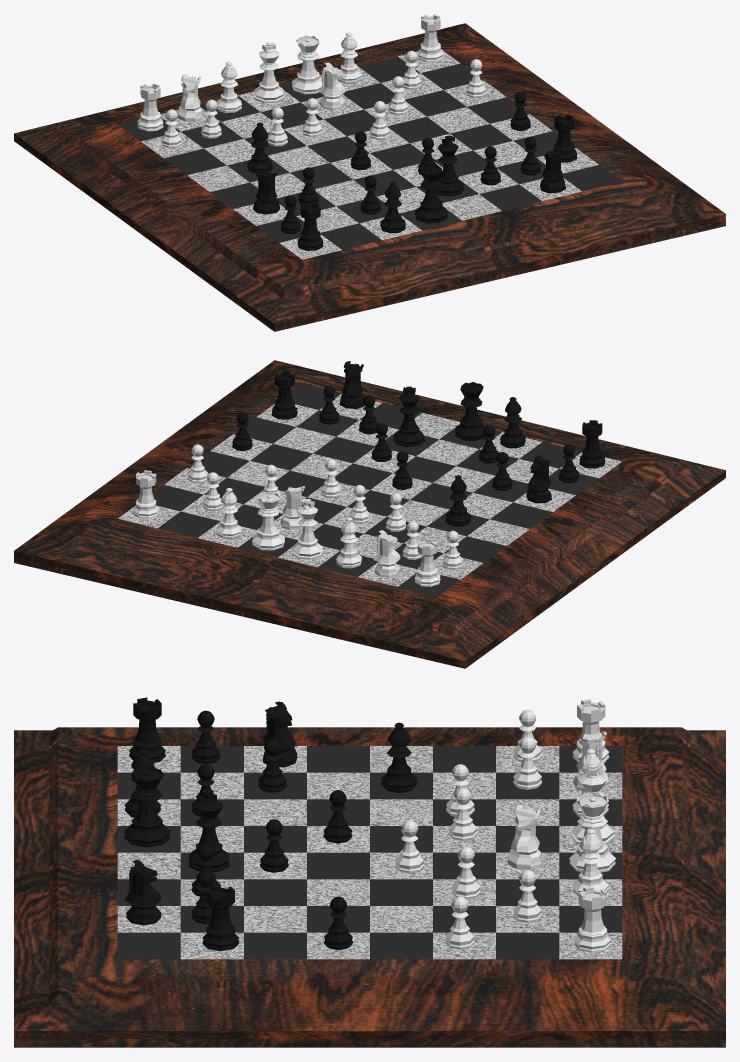
Rendered from Chess Board.fbx.
3 views of the same model, one above another, from view 1: azimuth 30°, elevation 25°; view 2: azimuth 150°, elevation 25°; view 3: azimuth 270°, elevation 25° (orthographic). The views are drawn at different scales.
Parts seen in each view (by area): view 1: Chess Board, Queen.001, Queen, King, King.001, Knight, Rook.001, Rook.003, Knight.001, Rook, Knight.002, Knight.003 (+19 smaller); view 2: Chess Board, Queen, Queen.001, King.001, King, Knight.001, Rook.003, Knight.002, Rook.001, Rook.002, Rook, Knight.003 (+19 smaller); view 3: Chess Board, Queen.001, Knight.003, King.001, Rook, Rook.002, Knight, Queen, Rook.003, Bishop.003, Knight.002, Bishop (+19 smaller).
Part boxes in pixels (x1,y1,x2,y2): Chess Board: (14, 23, 725, 331); Queen.001: (414, 164, 447, 223); Queen: (291, 35, 322, 94); King: (254, 42, 284, 102); King.001: (436, 135, 464, 196); Knight: (319, 62, 345, 110); Rook.001: (137, 83, 163, 131); Rook.003: (297, 202, 323, 250); Knight.001: (177, 74, 202, 121); Rook: (418, 14, 443, 62); Knight.002: (253, 171, 279, 214); Knight.003: (540, 149, 565, 193); Chess Board: (14, 360, 725, 668); Queen: (252, 491, 285, 550); Queen.001: (455, 382, 484, 440); King.001: (393, 386, 425, 447); King: (292, 498, 323, 559); Knight.001: (373, 530, 400, 577); Rook.003: (579, 420, 605, 468); Knight.002: (526, 455, 551, 503); Rook.001: (414, 538, 440, 586); Rook.002: (271, 371, 297, 419); Rook: (133, 470, 159, 518); Knight.003: (339, 361, 364, 408); Chess Board: (14, 727, 725, 1047); Queen.001: (124, 766, 170, 847); Knight.003: (124, 860, 161, 925); King.001: (188, 789, 229, 871); Rook: (574, 886, 611, 952); Rook.002: (202, 884, 239, 951); Knight: (507, 804, 542, 869); Queen: (569, 792, 615, 872); Rook.003: (129, 697, 165, 762); Bishop.003: (381, 722, 417, 792); Knight.002: (263, 701, 297, 767); Bishop: (572, 828, 608, 896).
Bounding box in the file's own units: 67.72 × 12.59 × 67.72.
Materials: 5 (3 with a texture image).
